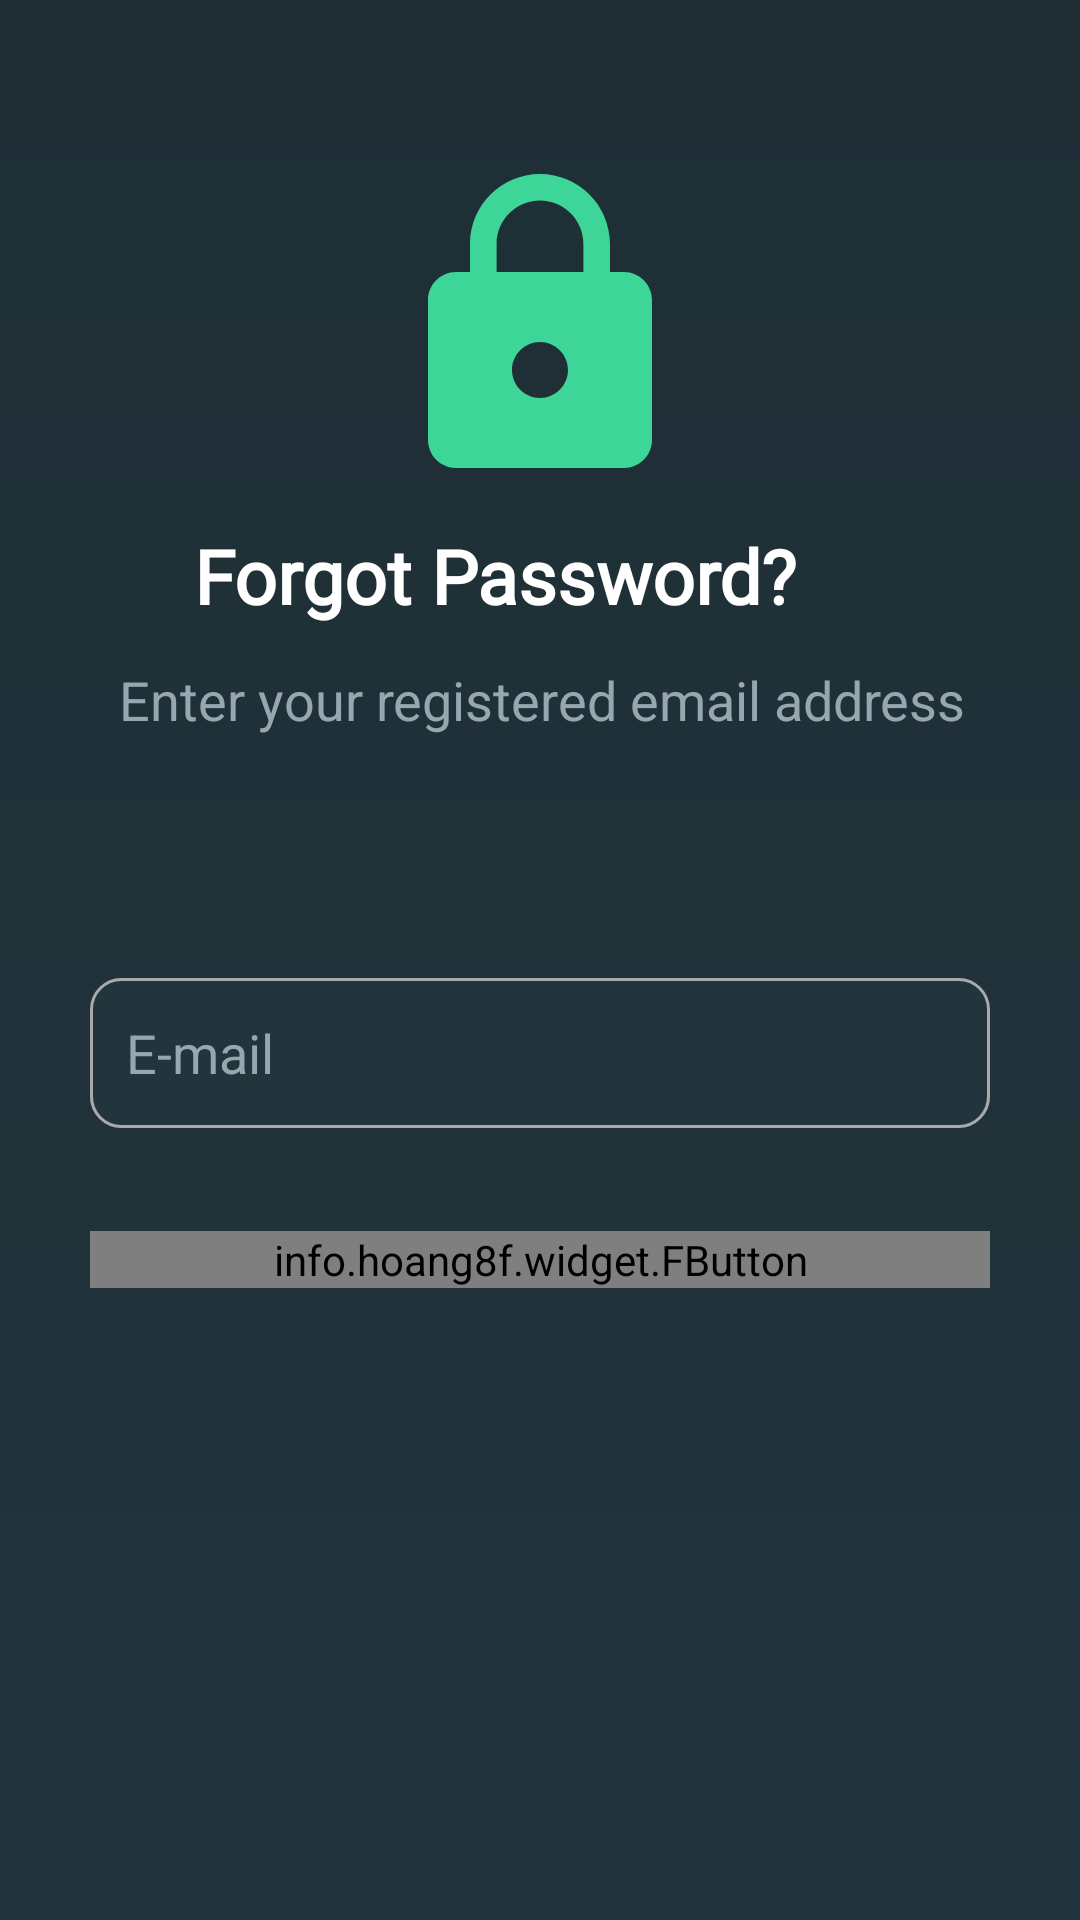

Icons on this 1080 x 1920 Android screen, each with its box as (x1, y1, x2, y2):
lock: (428, 174, 652, 468)
